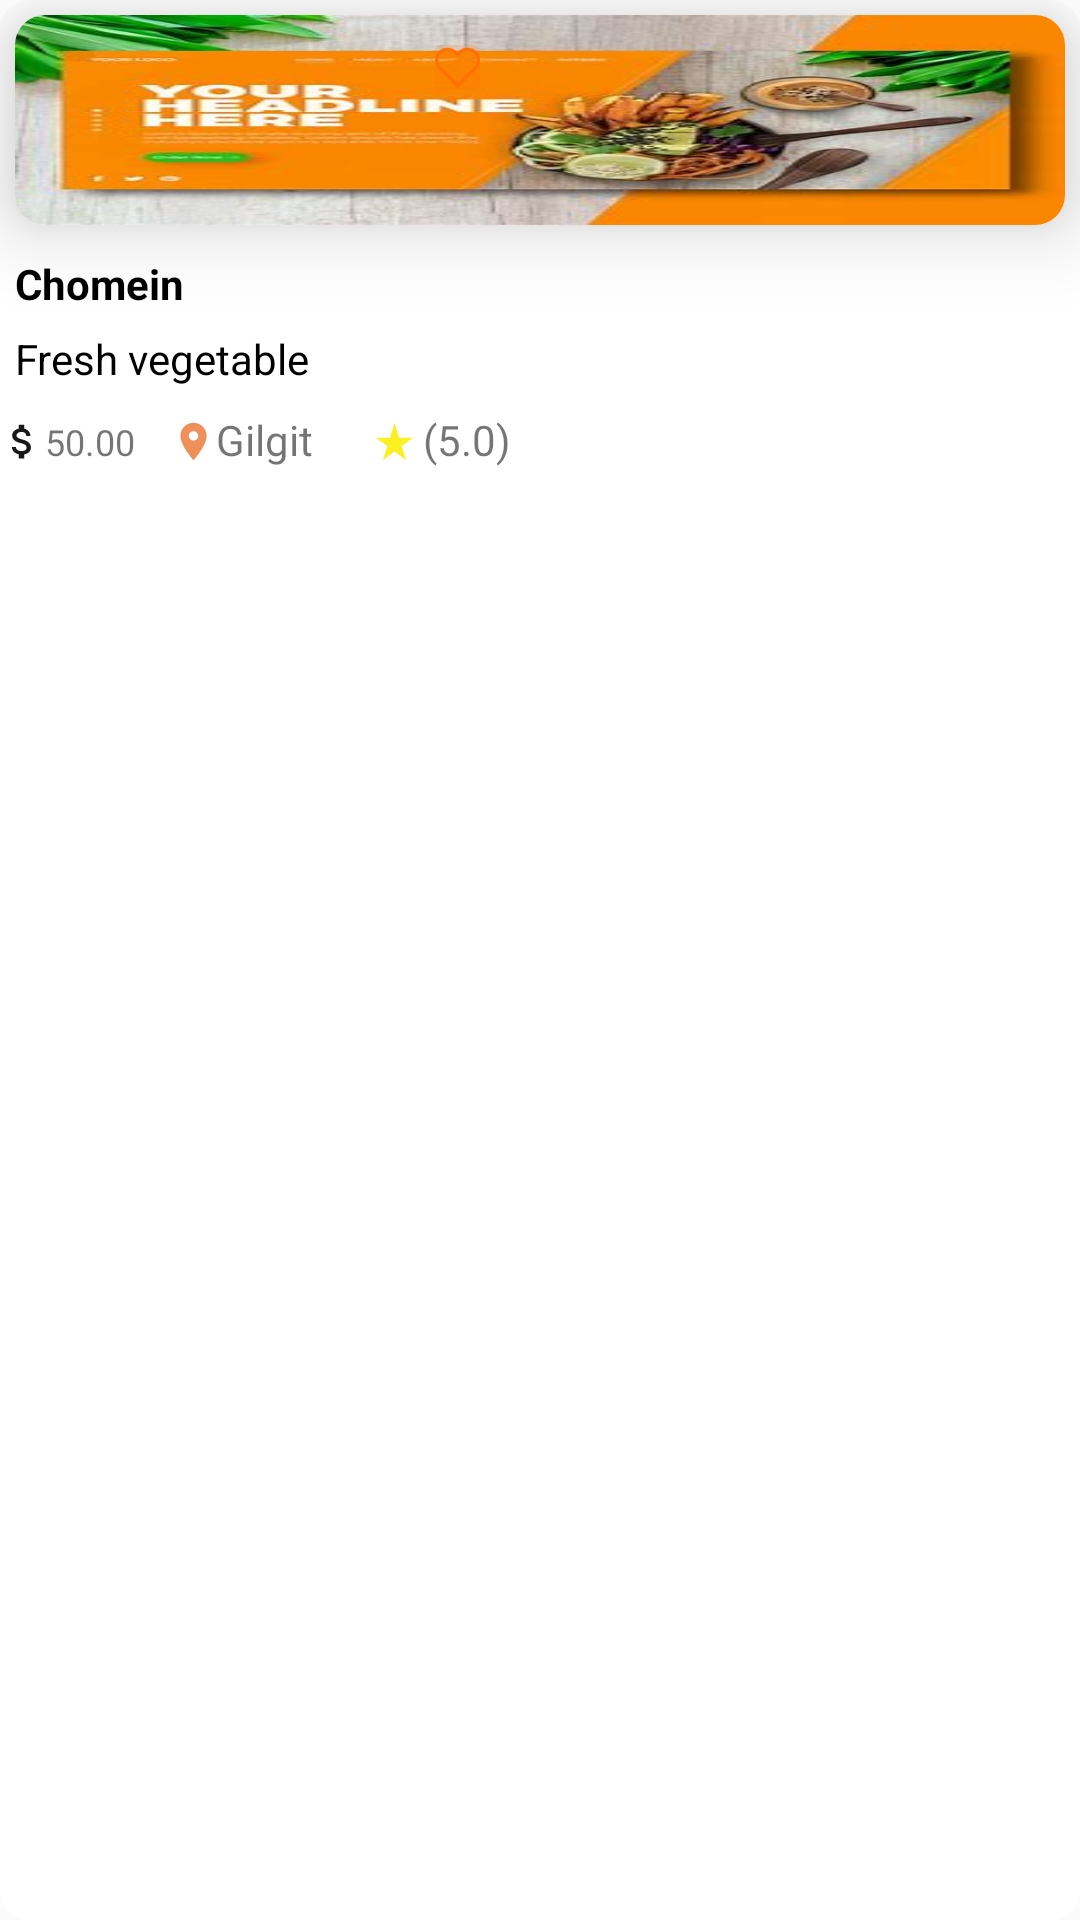

Screen size 1080 x 1920. Icon name, then its center in pixels as point (x, y):
attach money: point (21, 441)
location on: point (193, 441)
star rate: point (394, 441)
